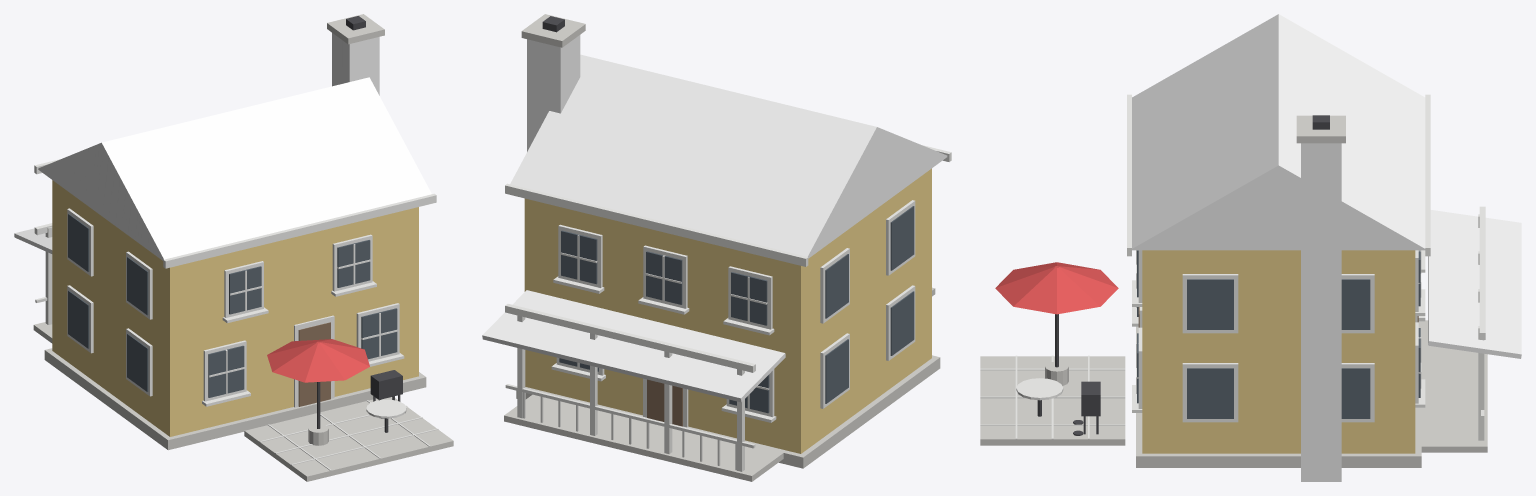
File: house-east-yellow.glb
3 views of the same model, side by side, from view 1: azimuth 30°, elevation 25°; view 2: azimuth 150°, elevation 25°; view 3: azimuth 270°, elevation 25° (orthographic). The views are drawn at different scales.
Visible parts, largest first — view 1: Body, Roof, PatioSlab, Foundation, UmbCanopy, FasciaR, Chimney, WinGlass.005, WinGlass.006, WinGlass.008, WinGlass.007, DoorR (+17 smaller); view 2: Roof, Body, PorchRoof, PorchSlab, Chimney, FasciaF, Foundation, PorchBeam, WinGlass.003, WinGlass.002, WinGlass.004, WinGlassS.004 (+18 smaller); view 3: Roof, Body, Chimney, PorchRoof, PatioSlab, PorchSlab, UmbCanopy, Foundation, WinGlassS, WinGlassS.001, WinGlassS.002, WinGlassS.003 (+10 smaller).
Part boxes in pixels (<box>): Body: <box>52,180,418,436</box>; Roof: <box>38,77,431,260</box>; PatioSlab: <box>244,397,453,481</box>; Foundation: <box>44,348,426,450</box>; UmbCanopy: <box>267,339,369,382</box>; FasciaR: <box>163,193,436,268</box>; Chimney: <box>332,33,379,95</box>; WinGlass.005: <box>208,345,244,397</box>; WinGlass.006: <box>361,308,397,359</box>; WinGlass.008: <box>337,240,370,287</box>; WinGlass.007: <box>229,266,261,314</box>; DoorR: <box>298,322,330,406</box>; Roof: <box>510,54,947,258</box>; Body: <box>524,168,931,453</box>; PorchRoof: <box>482,290,785,402</box>; PorchSlab: <box>504,390,786,481</box>; Chimney: <box>527,35,580,151</box>; FasciaF: <box>505,183,808,266</box>; Foundation: <box>516,355,940,468</box>; PorchBeam: <box>505,304,755,372</box>; WinGlass.003: <box>646,251,682,304</box>; WinGlass.002: <box>731,272,767,325</box>; WinGlass.004: <box>561,230,597,284</box>; WinGlassS.004: <box>890,291,914,355</box>; Roof: <box>1132,14,1425,250</box>; Body: <box>1142,250,1415,453</box>; Chimney: <box>1301,143,1341,481</box>; PorchRoof: <box>1428,210,1521,358</box>; PatioSlab: <box>980,356,1125,445</box>; PorchSlab: <box>1421,320,1487,452</box>; UmbCanopy: <box>995,262,1118,314</box>; Foundation: <box>1136,321,1421,467</box>; WinGlassS: <box>1187,368,1233,418</box>; WinGlassS.001: <box>1187,279,1233,329</box>; WinGlassS.002: <box>1341,368,1370,418</box>; WinGlassS.003: <box>1341,279,1370,329</box>.
Size of the model in its own units: 9.18 by 9.18 by 12.7.
